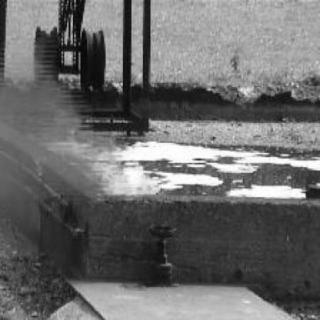Fire: (92, 148, 164, 198)
